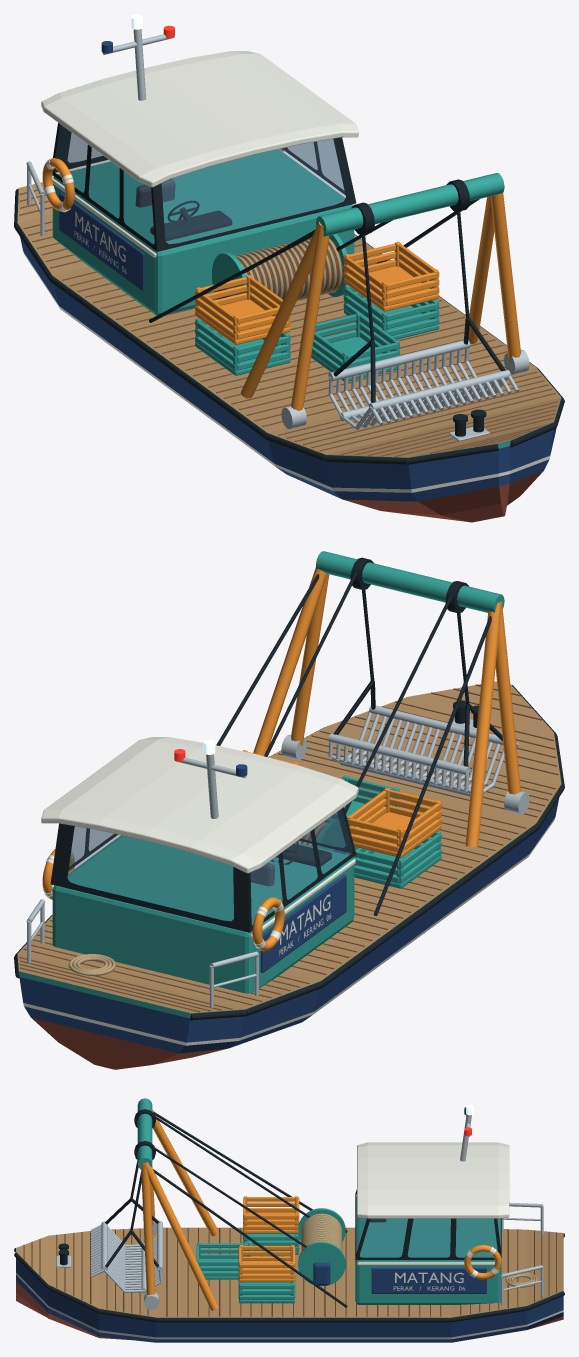
3 views of the same model, one above another, from view 1: azimuth 30°, elevation 25°; view 2: azimuth 150°, elevation 25°; view 3: azimuth 270°, elevation 25° (orthographic). The views are drawn at different scales.
Visible parts, largest first — view 1: Matang Cockle Dredger; view 2: Matang Cockle Dredger; view 3: Matang Cockle Dredger.
Part boxes in pixels (x1,y1,x2,y2): Matang Cockle Dredger: [14, 14, 564, 522]; Matang Cockle Dredger: [14, 551, 564, 1069]; Matang Cockle Dredger: [14, 1098, 564, 1342].
Bounding box in the file's own units: 3.64 × 3.86 × 9.23.
